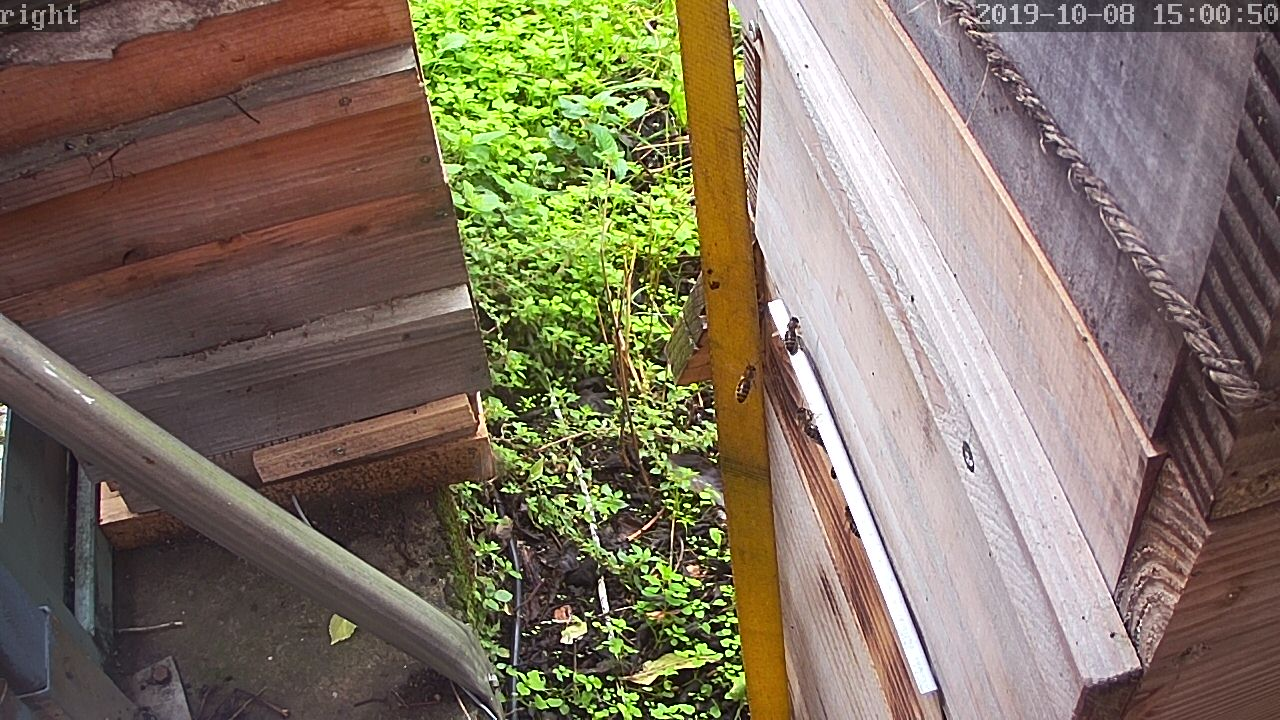bee: (732, 360, 760, 414), (834, 505, 871, 545), (777, 308, 807, 352), (798, 406, 827, 451)
